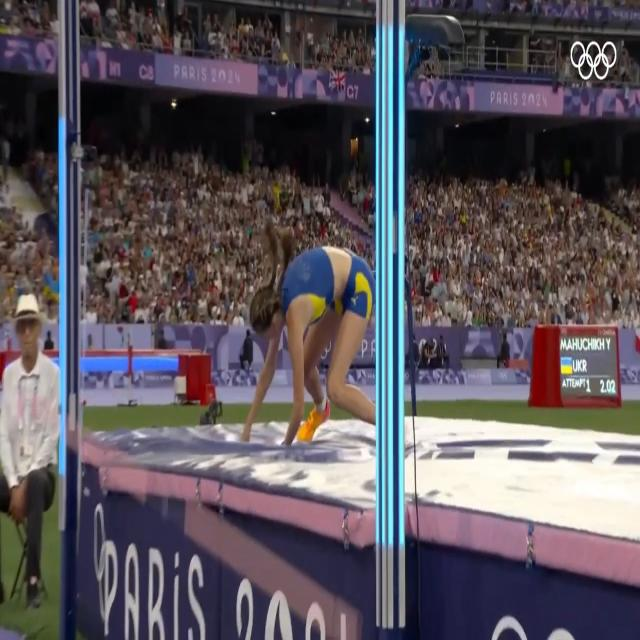land: (240, 213, 376, 447)
